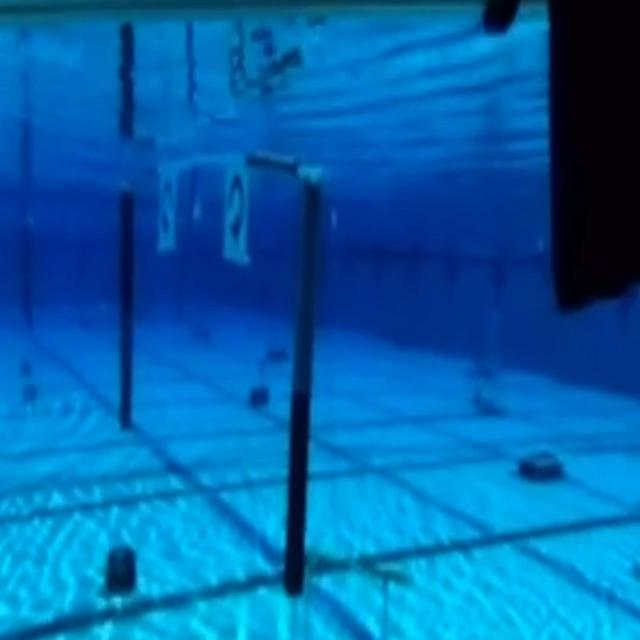Gate: (98, 153, 353, 613)
